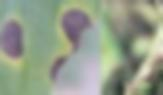Tomato Early blight leaf: (0, 0, 99, 95)
